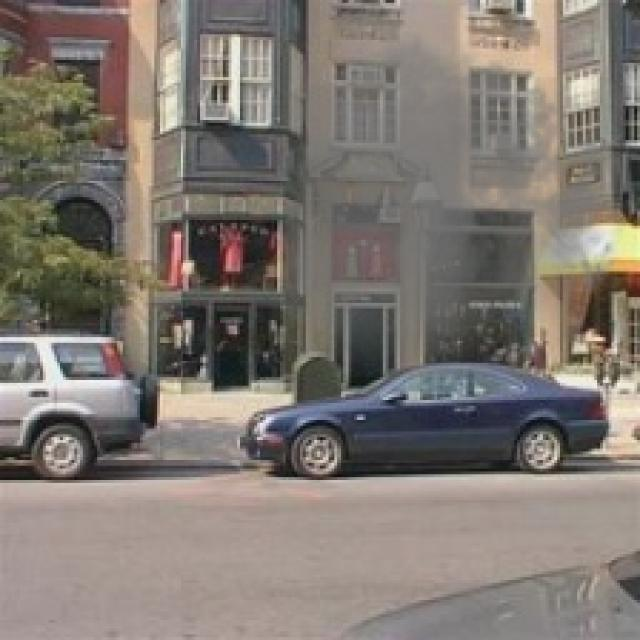Smoke: (271, 17, 626, 377)
